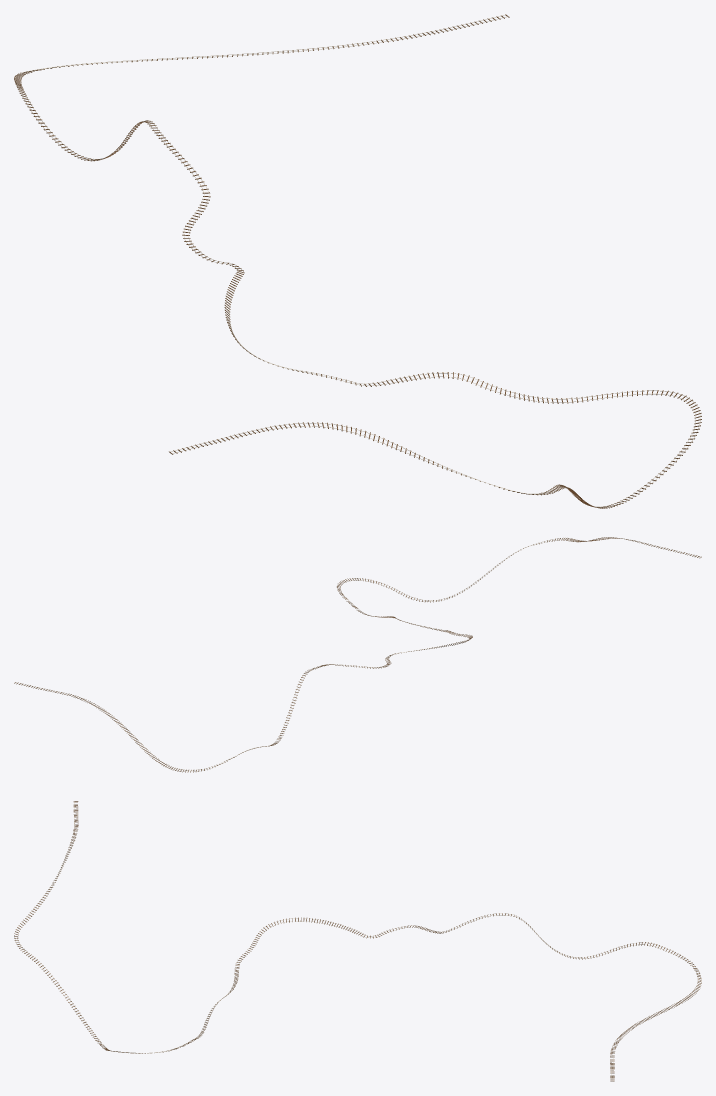
Rendered from rails.glb.
3 views of the same model, one above another, from view 1: azimuth 30°, elevation 25°; view 2: azimuth 150°, elevation 25°; view 3: azimuth 270°, elevation 25° (orthographic). The views are drawn at different scales.
Parts seen in each view (by area): view 1: rail_sleepers, rail_path; view 2: rail_sleepers, rail_path; view 3: rail_sleepers, rail_path.
Part boxes in pixels (x1=…): rail_sleepers: x1=14, y1=14, x2=701, y2=508; rail_path: x1=15, y1=14, x2=700, y2=507; rail_sleepers: x1=14, y1=537, x2=701, y2=772; rail_path: x1=15, y1=537, x2=701, y2=771; rail_sleepers: x1=14, y1=801, x2=701, y2=1081; rail_path: x1=14, y1=801, x2=701, y2=1080.
Size of what is drawn, in the model's own units: 584 by 128 by 744.
